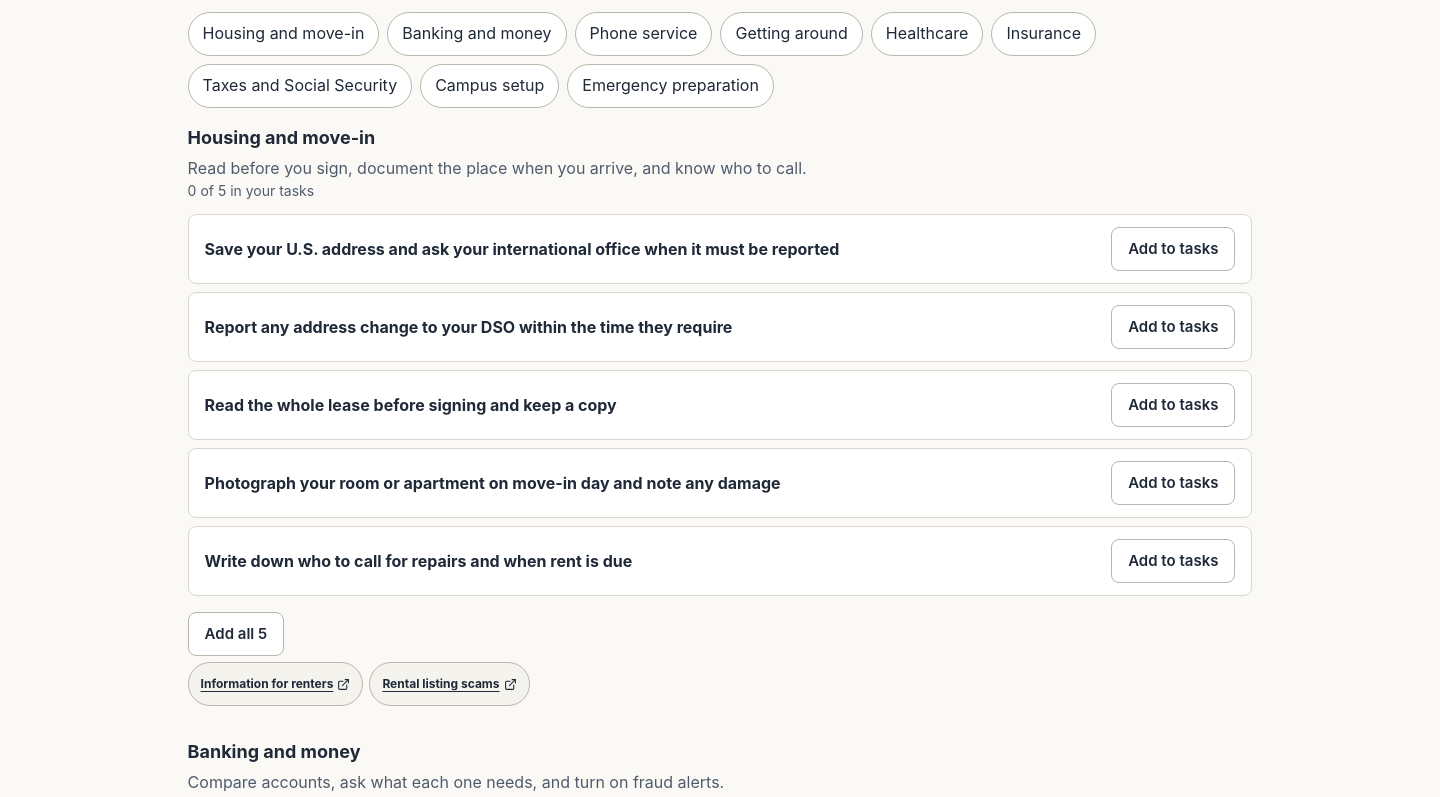
Test case: LifeHubPage › adds one step as a task and reports it
(page scrolled)
Click the button named "Add to tasks: Read the whole lease before signing and keep a copy" at coordinates (1173, 405), box [1111,383,1236,427]
(page scrolled)
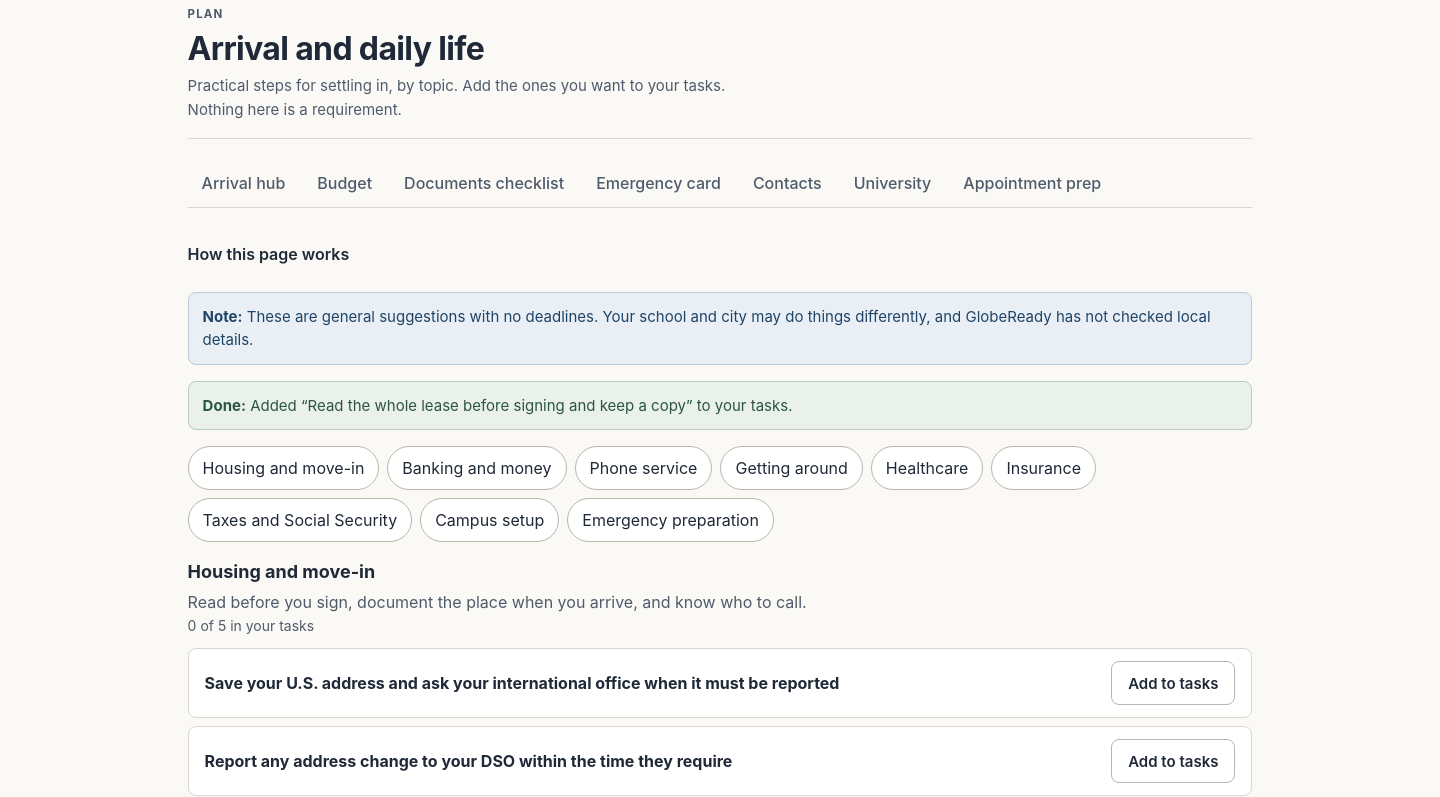
Check: the text "Added “Read the whole lease" is shown, box [250,396,792,415]
